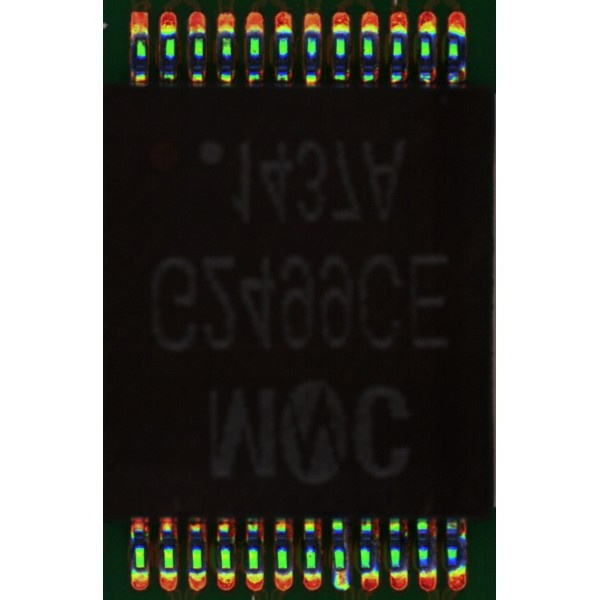Bad_podu: (335, 561, 343, 578)
Bad_qiaojiao: (344, 521, 349, 571)
